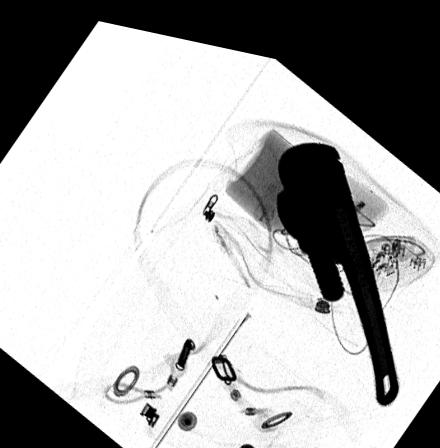Wrench: (274, 127, 400, 388)
